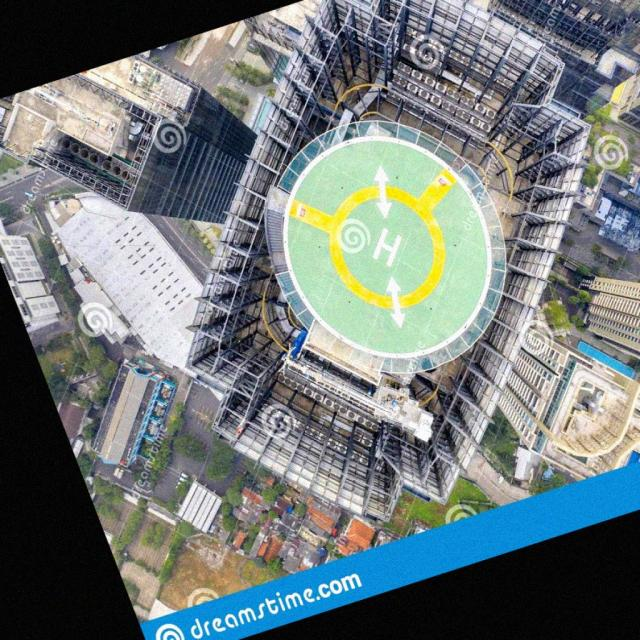helipad: (324, 180, 452, 315)
